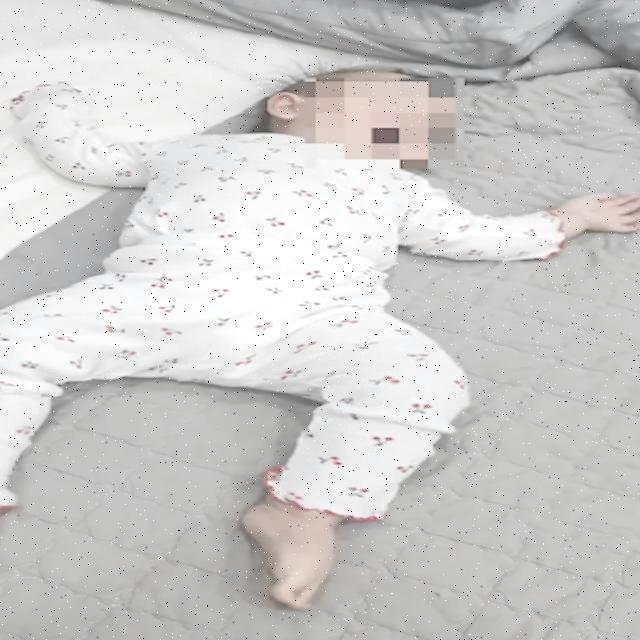child: (0, 64, 640, 612)
